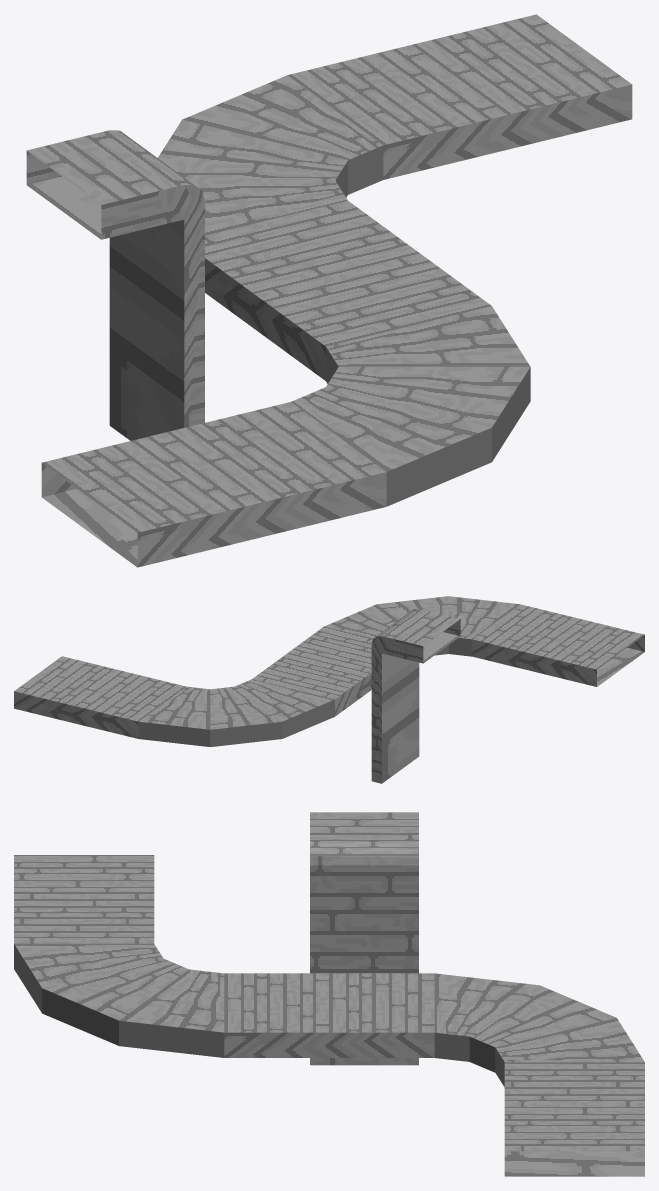
File: Level2.fbx
The picture shows the model from 3 angles, top to bottom: view 1: azimuth 30°, elevation 25°; view 2: azimuth 150°, elevation 25°; view 3: azimuth 270°, elevation 25°; orthographic projection. The views are drawn at different scales.
Parts seen in each view (by area): view 1: Level2_Sewage_Straight.002, Level2_Sewage_Falls, Level2_Sewage_Straight.001, Level2_Sewage_Curve_Left, Level2_Sewage_Straight, Level2_Sewage_Curve; view 2: Level2_Sewage_Curve, Level2_Sewage_Straight.002, Level2_Sewage_Falls, Level2_Sewage_Straight.001, Level2_Sewage_Straight, Level2_Sewage_Curve_Left; view 3: Level2_Sewage_Falls, Level2_Sewage_Curve_Left, Level2_Sewage_Straight, Level2_Sewage_Straight.001, Level2_Sewage_Curve, Level2_Sewage_Straight.002.
Part boxes in pixels (x1=…): Level2_Sewage_Straight.002: x1=41, y1=402, x2=386, y2=567; Level2_Sewage_Falls: x1=26, y1=130, x2=204, y2=440; Level2_Sewage_Straight.001: x1=287, y1=14, x2=632, y2=179; Level2_Sewage_Curve_Left: x1=291, y1=306, x2=530, y2=506; Level2_Sewage_Straight: x1=205, y1=201, x2=491, y2=380; Level2_Sewage_Curve: x1=158, y1=75, x2=383, y2=235; Level2_Sewage_Curve: x1=138, y1=679, x2=334, y2=746; Level2_Sewage_Straight.002: x1=472, y1=604, x2=644, y2=686; Level2_Sewage_Falls: x1=371, y1=609, x2=460, y2=783; Level2_Sewage_Straight.001: x1=14, y1=656, x2=185, y2=738; Level2_Sewage_Straight: x1=252, y1=626, x2=373, y2=716; Level2_Sewage_Curve_Left: x1=324, y1=596, x2=519, y2=656; Level2_Sewage_Falls: x1=310, y1=812, x2=418, y2=1065; Level2_Sewage_Curve_Left: x1=14, y1=943, x2=224, y2=1057; Level2_Sewage_Straight: x1=224, y1=973, x2=434, y2=1057; Level2_Sewage_Straight.001: x1=504, y1=1062, x2=644, y2=1176; Level2_Sewage_Curve: x1=434, y1=973, x2=644, y2=1086; Level2_Sewage_Straight.002: x1=14, y1=855, x2=154, y2=943.
Bounding box in the file's own units: 4000 × 1360 × 3600.
